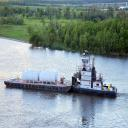tugboat: (72, 47, 119, 101)
